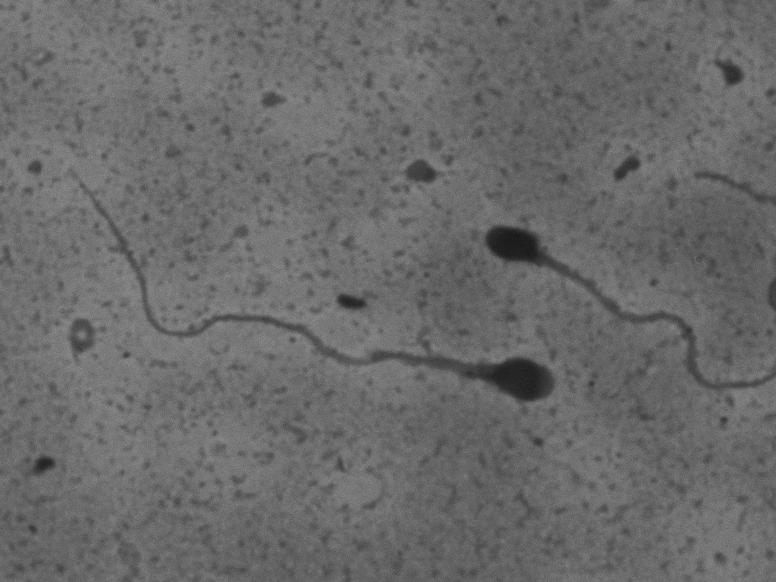Abnormal: (64, 289, 567, 425), (472, 212, 763, 404)
